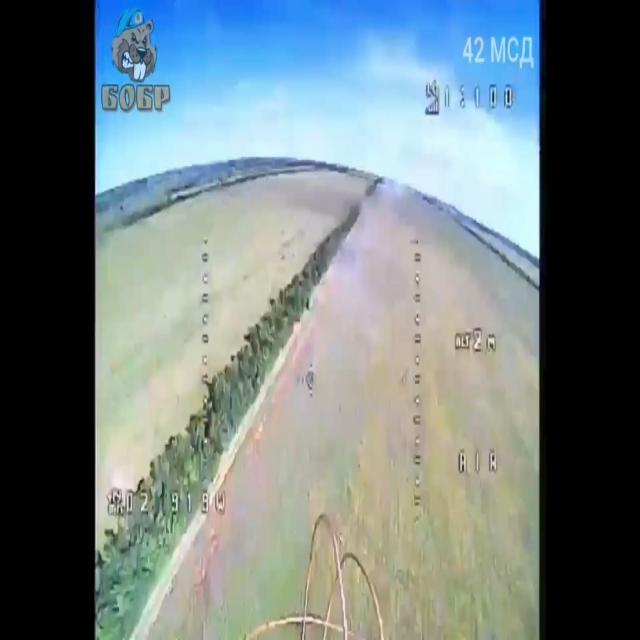cars: (306, 295, 315, 310)
